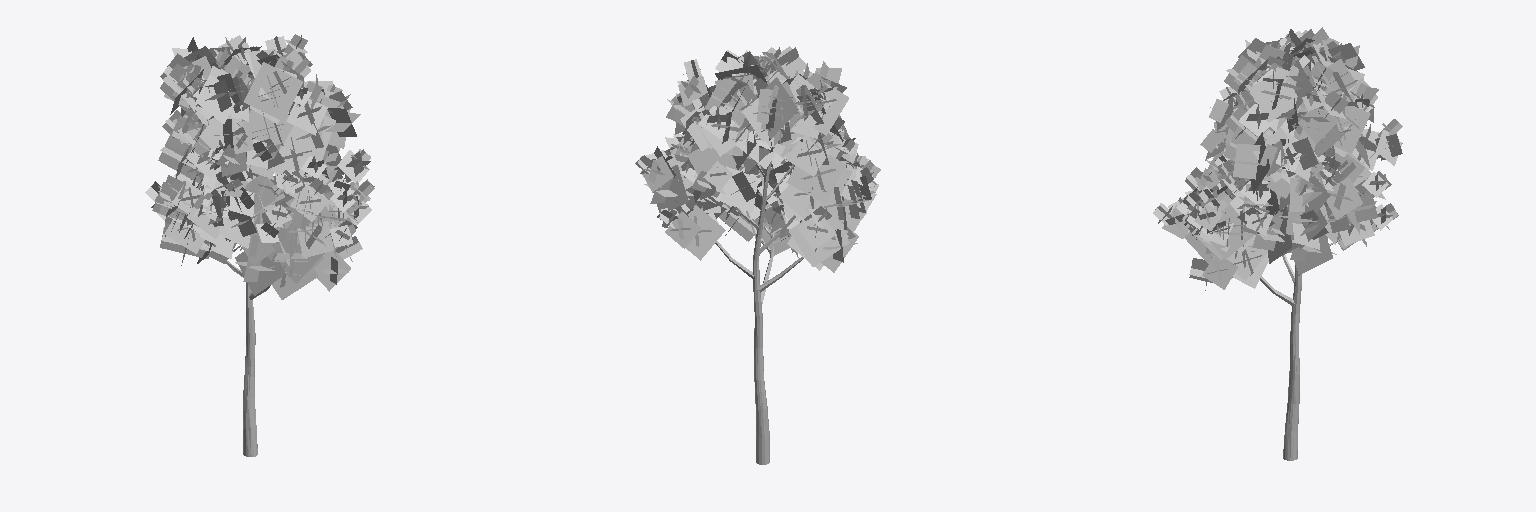
Rendered from Birch_4.obj.
3 views of the same model, side by side, from view 1: azimuth 30°, elevation 25°; view 2: azimuth 150°, elevation 25°; view 3: azimuth 270°, elevation 25° (orthographic).
Parts seen in each view (by area): view 1: Birch_4; view 2: Birch_4; view 3: Birch_4.
Part boxes in pixels (x1,y1,x2,y2): Birch_4: (145,34,374,456); Birch_4: (635,46,880,464); Birch_4: (1153,27,1402,460).
Size of the model in its own units: 6.24 by 11.62 by 6.64.